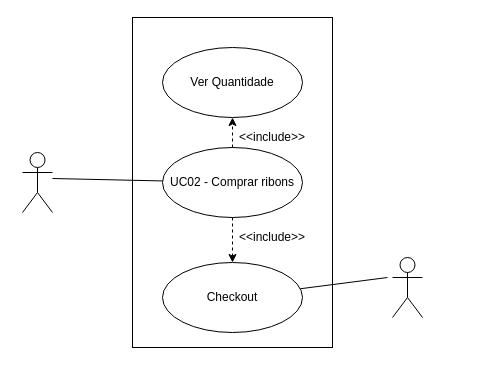
The diagram is 485 pixels wide and 371 high, and some of its shapes have lost their labels. Here are the shapes that lost their labels. From the top down, the box of each, then its label:
(22, 152, 52, 212): Usuário
(392, 256, 422, 318): Serviço de Pagamento (Cartão de Crédito)
